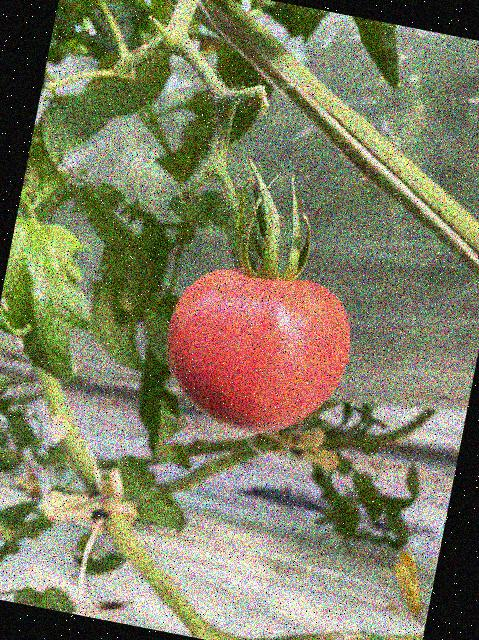b_fully_ripened: (149, 253, 360, 450)
